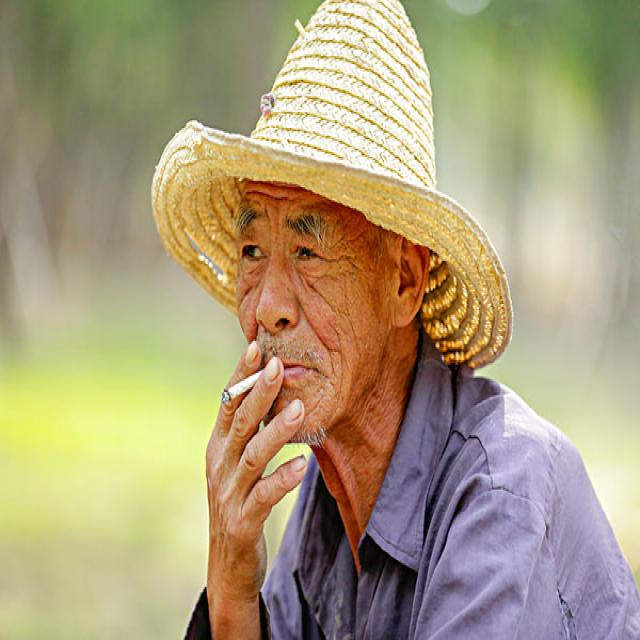smoking: (223, 362, 275, 405)
